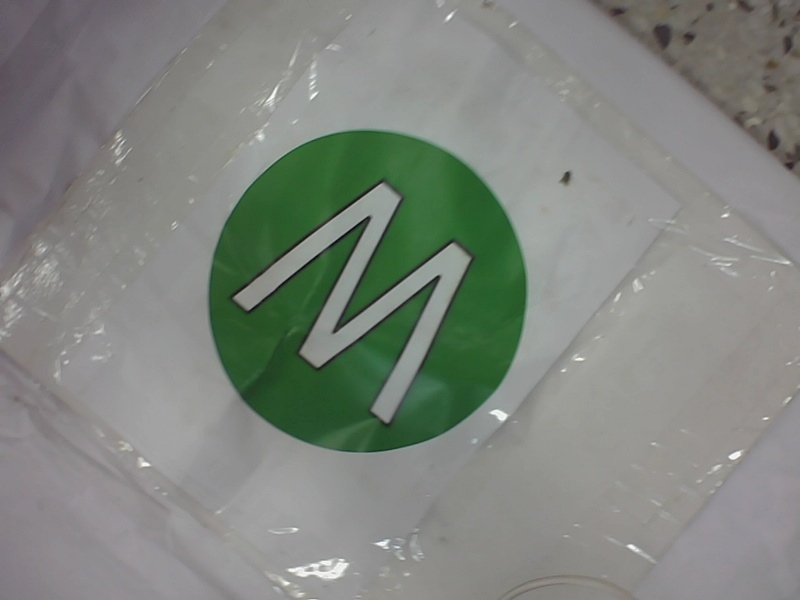areaB: (200, 126, 540, 463)
